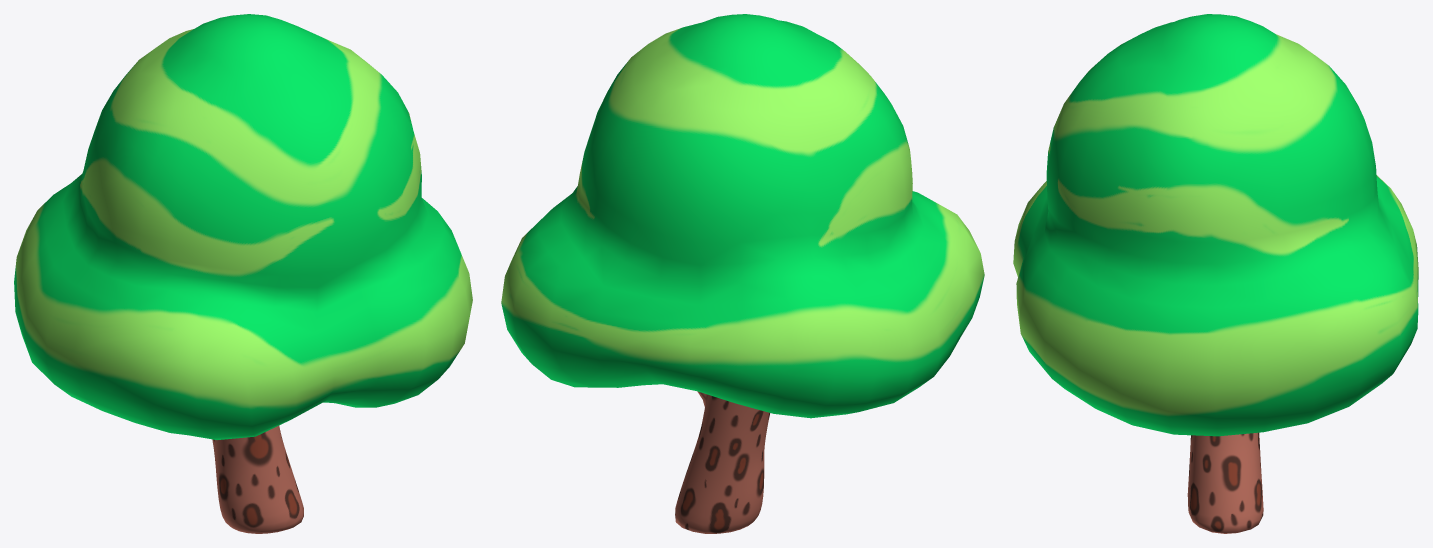
Rendered from TreeOne.fbx.
3 views of the same model, side by side, from view 1: azimuth 30°, elevation 25°; view 2: azimuth 150°, elevation 25°; view 3: azimuth 270°, elevation 25° (orthographic). The views are drawn at different scales.
Visible parts, largest first — view 1: FirstTree_LOD0; view 2: FirstTree_LOD0; view 3: FirstTree_LOD0.
Part boxes in pixels (<box>): FirstTree_LOD0: <box>14,14,472,533</box>; FirstTree_LOD0: <box>501,14,984,533</box>; FirstTree_LOD0: <box>1013,14,1418,533</box>.
Bounding box in the file's own units: 17.74 × 21.68 × 16.34.
2 materials, 2 textured.
